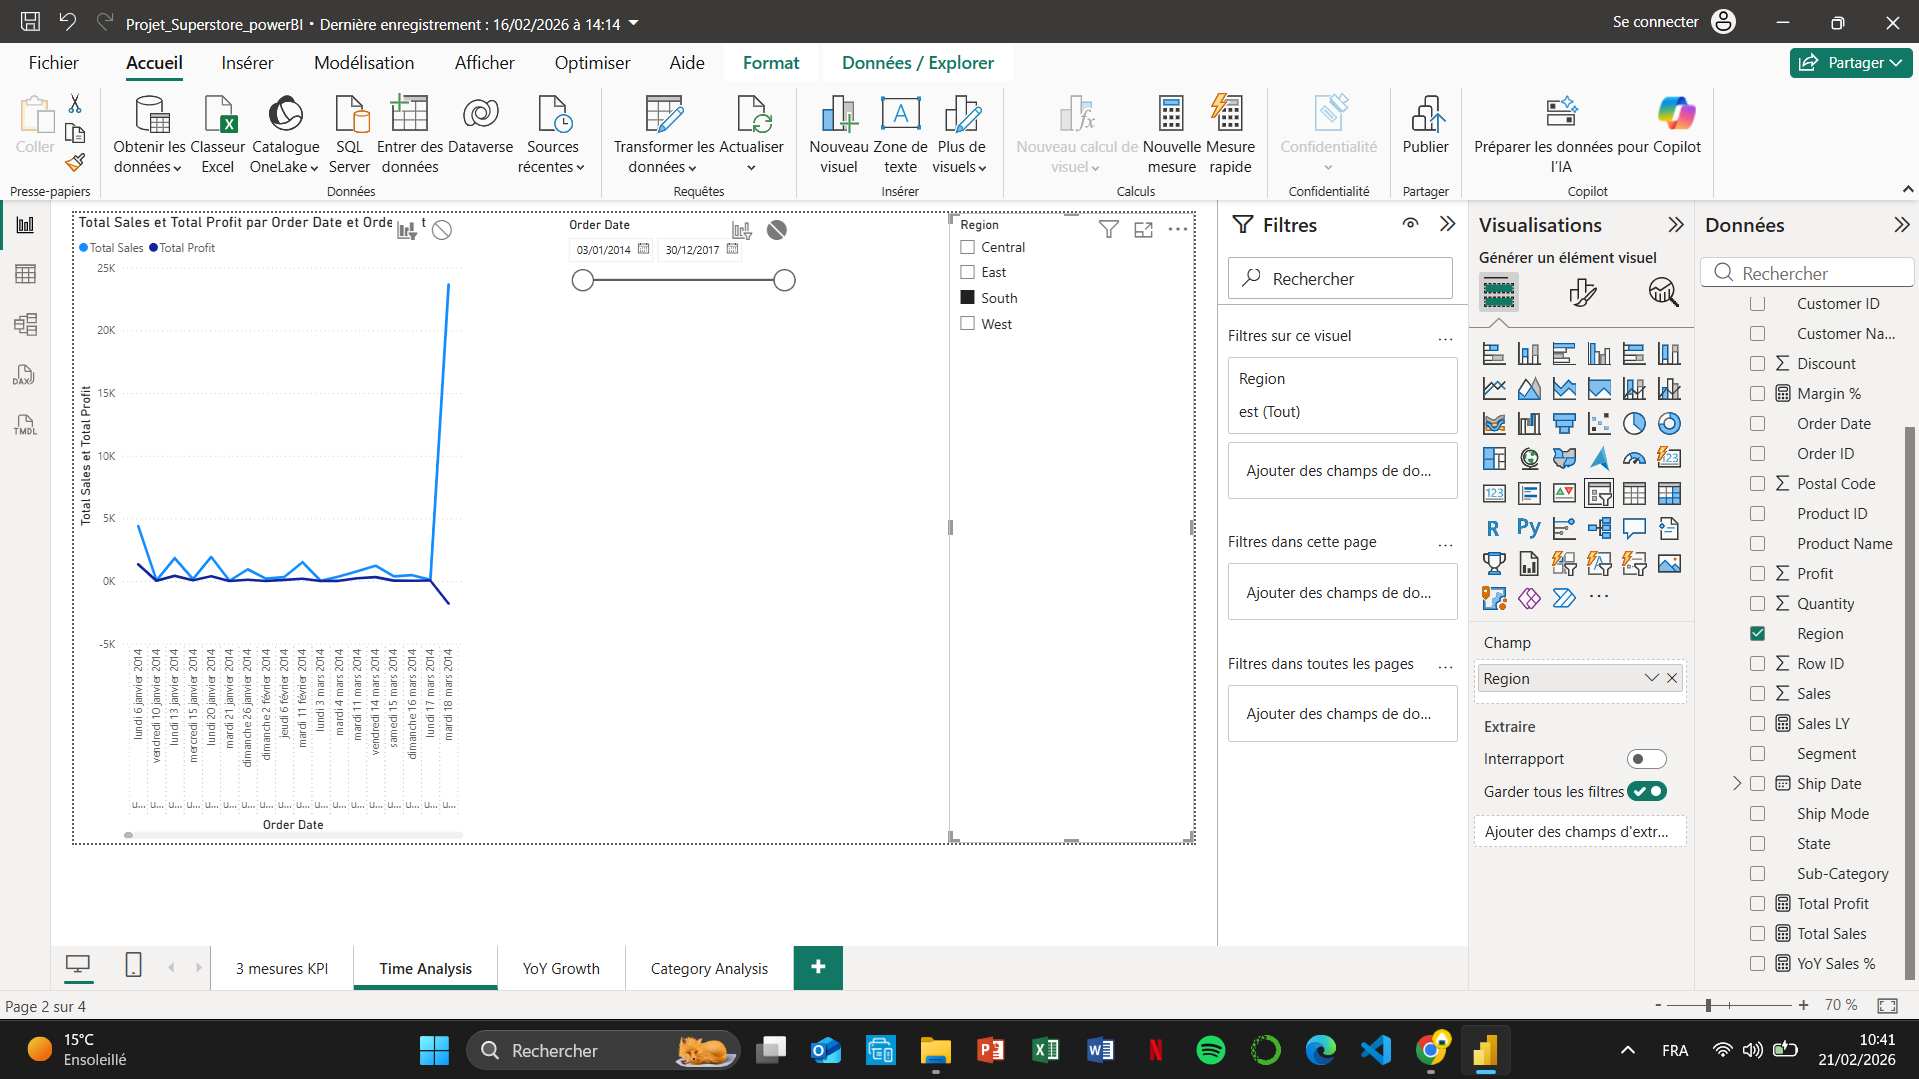

Layout of this report page (visuals, bound fields, positions):
{"tool":"powerbi","page":{"name":"Time Analysis","canvas":[1280,720],"ordinal":1},"visuals":[{"type":"slicer","fields":{"Values":["Fact_Sales.Order Date"]},"box":[552.2,0,280,720],"z":0},{"type":"slicer","fields":{"Values":["Fact_Sales.Region"]},"box":[1000,0,280,720],"z":1000},{"type":"lineChart","fields":{"Category":["Fact_Sales.Order Date.Variation.Hiérarchie de dates.Mois","Fact_Sales.Order Date.Variation.Hiérarchie de dates.Année"],"Y":["Fact_Sales.Total Sales","Fact_Sales.Total Profit"]},"box":[0,0,450,720],"z":2000}]}

Visuals, with their boxes on the page's 1280x720 design canvas (x1, y1, x2, y2). These are canvas units, not pixel positions in the 1919x1079 screenshot, which may show the page scaled, cropped or inside an application window:
slicer - Fact_Sales.Order Date: (left=552, top=0, right=832, bottom=720)
slicer - Fact_Sales.Region: (left=1000, top=0, right=1280, bottom=720)
lineChart - Fact_Sales.Order Date.Variation.Hiérarchie de dates.Mois x Fact_Sales.Order Date.Variation.Hiérarchie de dates.Année: (left=0, top=0, right=450, bottom=720)
